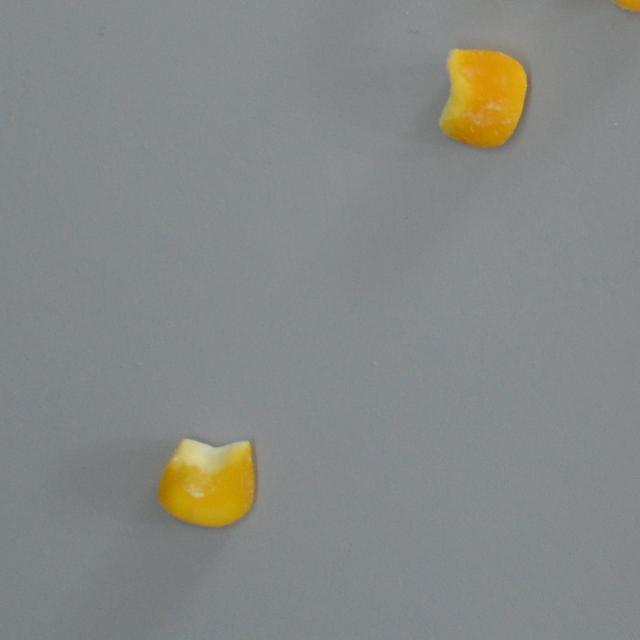pelicula: (435, 44, 532, 152), (155, 434, 260, 530)
